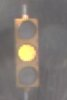Yellow: (13, 8, 44, 91)
